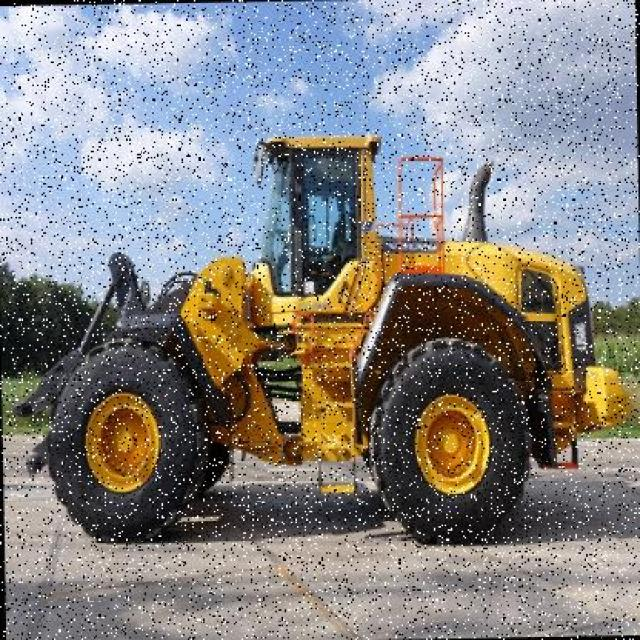buldozerpayloadergrader: (15, 120, 631, 555)
